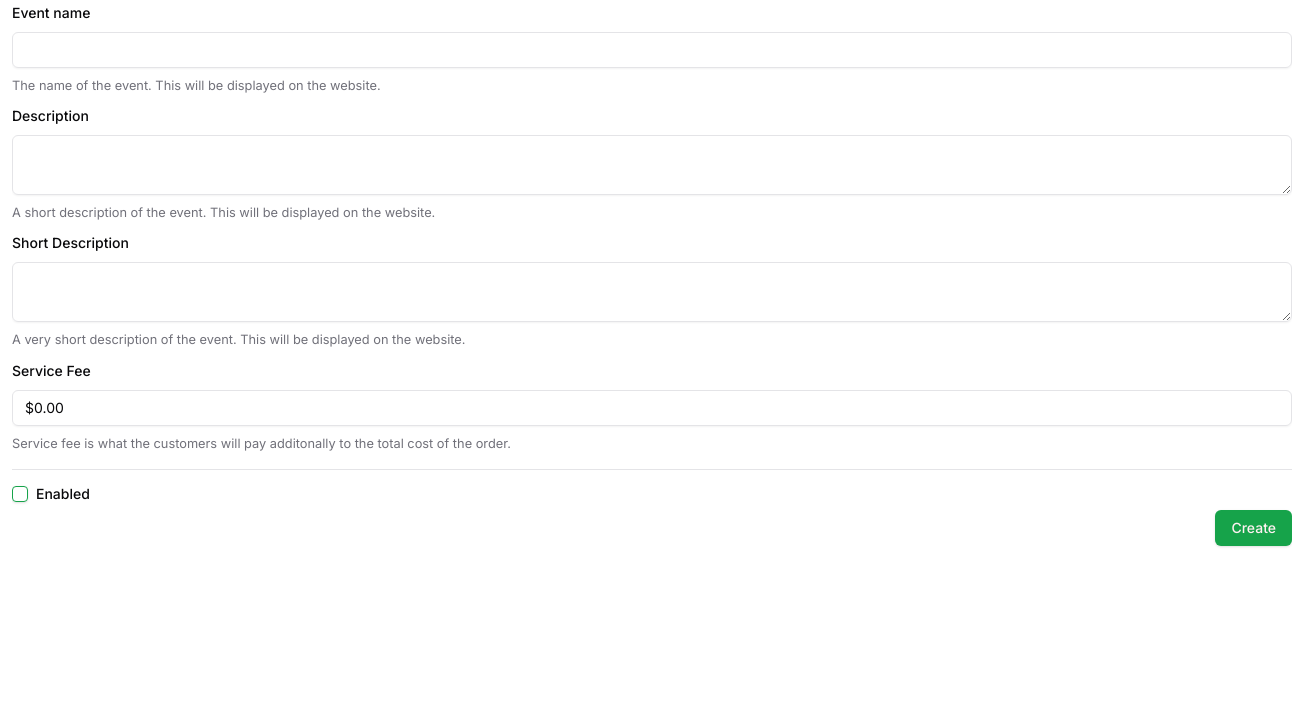
Test: CreateEventForm › updates input values correctly
Type "Test Event" into the field labelled "Event name".
click(652, 50); type("Test Event")  # box [12,32,1292,68]
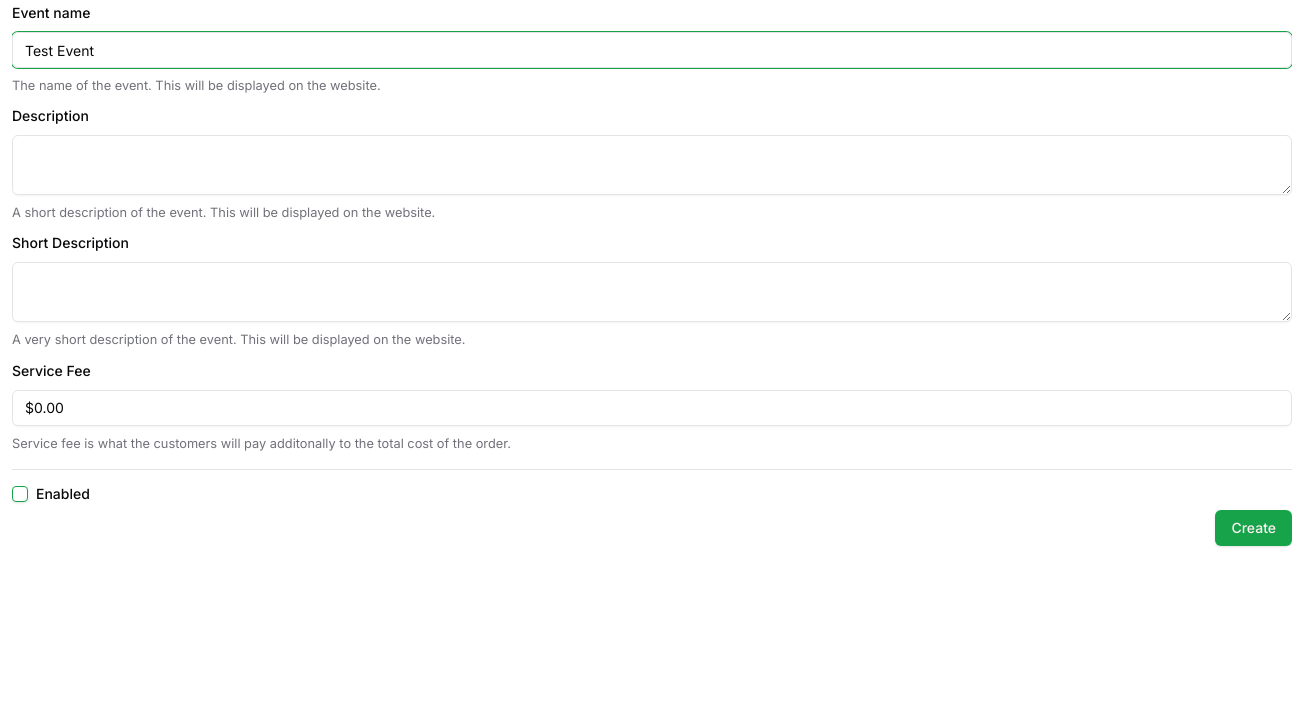
Type "Test Description" into the text box labelled "Description".
click(652, 165); type("Test Description")  # box [12,135,1292,195]
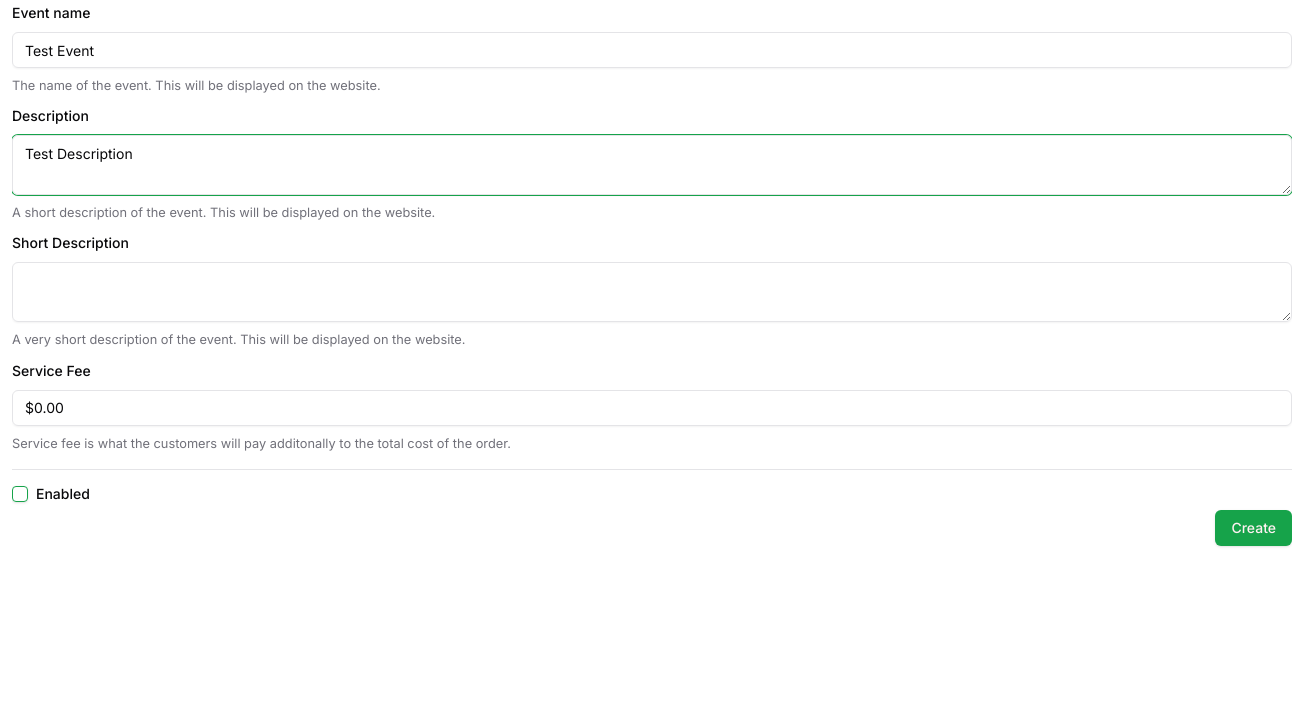
Type "12.34" into the field labelled "Service Fee".
click(652, 408); type("12.34")  # box [12,390,1292,426]
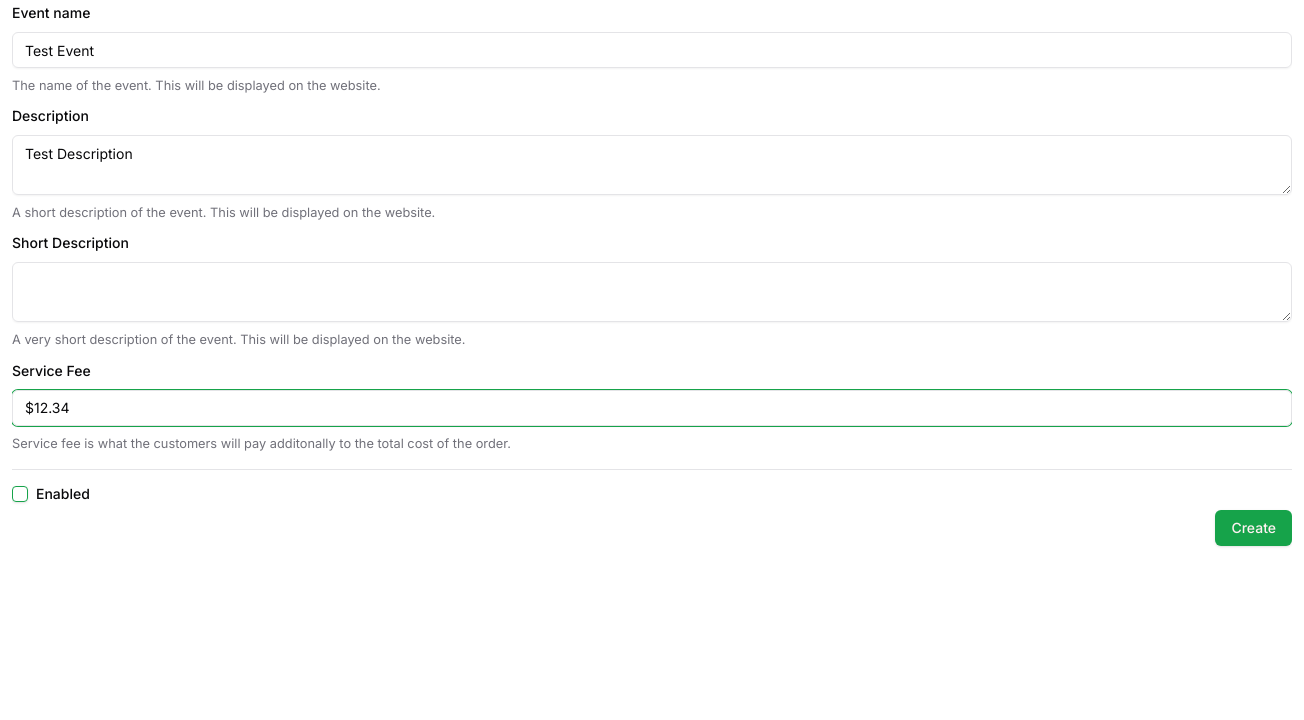
Expected: the field labelled "Service Fee" holds "$12.34", [12,390,1292,426]
